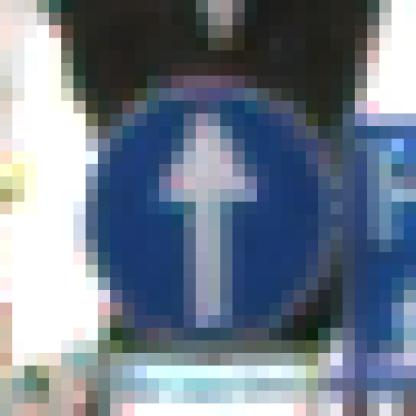AheadOnly: (74, 64, 356, 354)
